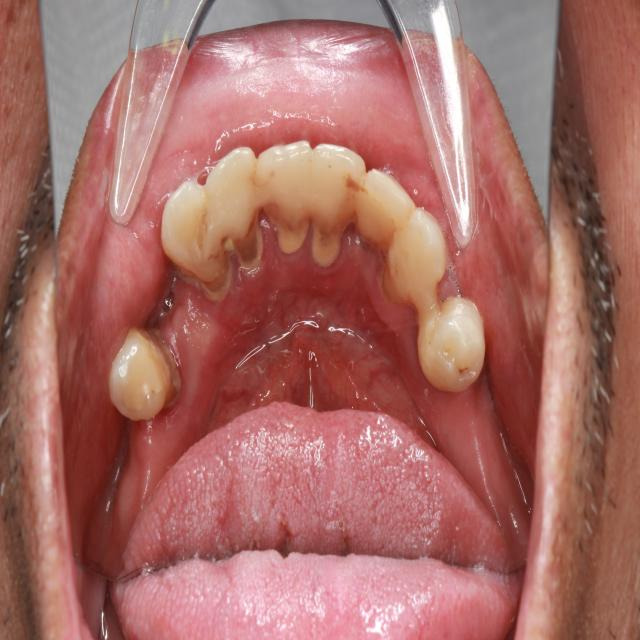tooth: (378, 184, 461, 327), (160, 176, 240, 319), (301, 127, 368, 280), (101, 322, 190, 437), (253, 129, 325, 271), (206, 145, 273, 293), (413, 281, 494, 399), (351, 137, 416, 284)
